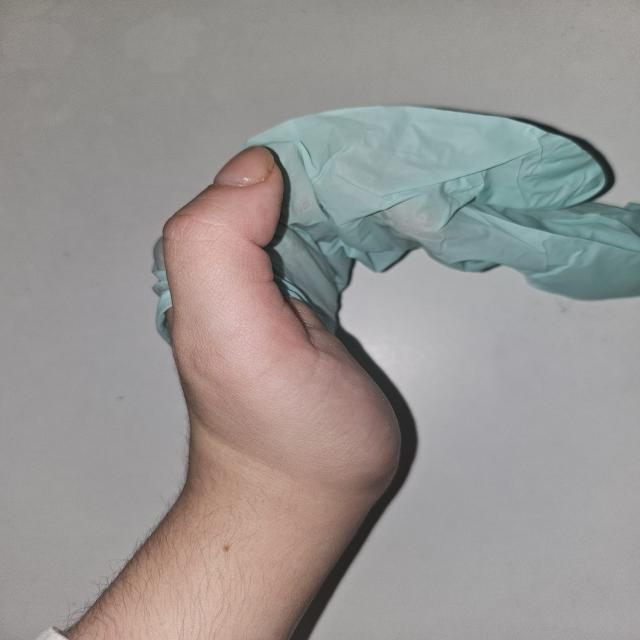glove_partial: (150, 105, 640, 484)
